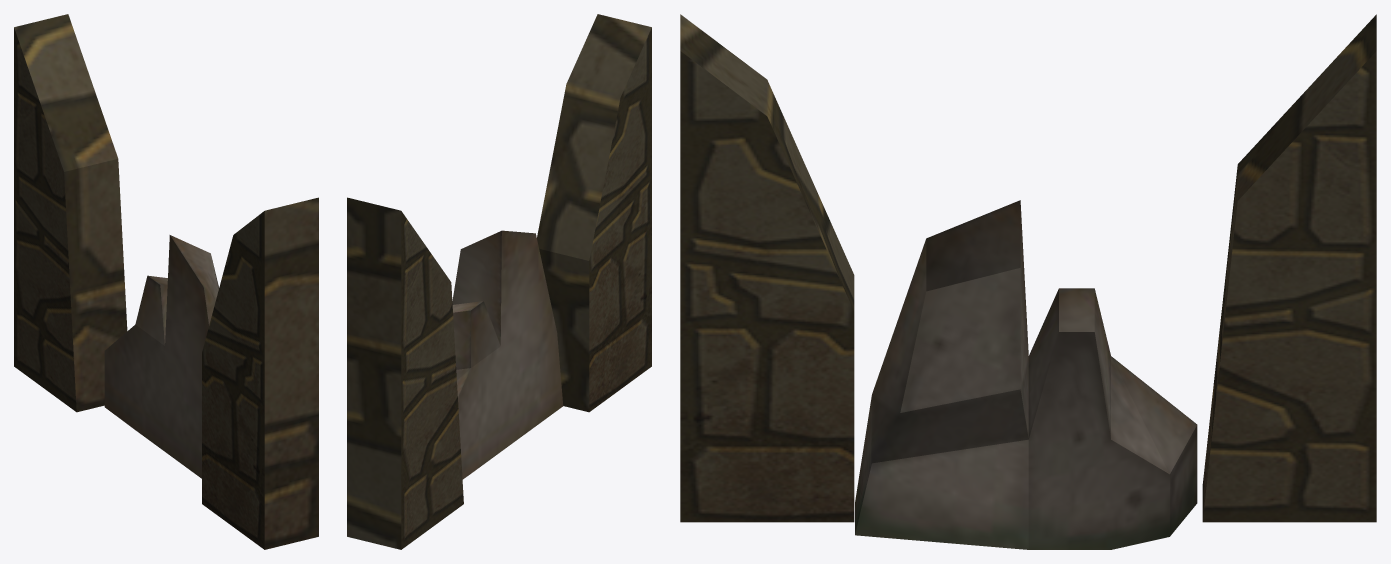
Rendered from pared_piedra.FBX.
3 views of the same model, side by side, from view 1: azimuth 30°, elevation 25°; view 2: azimuth 150°, elevation 25°; view 3: azimuth 270°, elevation 25° (orthographic). The views are drawn at different scales.
Parts seen in each view (by area): view 1: Box007; view 2: Box007; view 3: Box007.
Part boxes in pixels (bbox=[...]): Box007: bbox=[14, 14, 318, 549]; Box007: bbox=[347, 14, 651, 549]; Box007: bbox=[680, 14, 1376, 549].
Size of the model in its own units: 354 by 1195 by 1600.
Materials: 2 (2 with a texture image).
